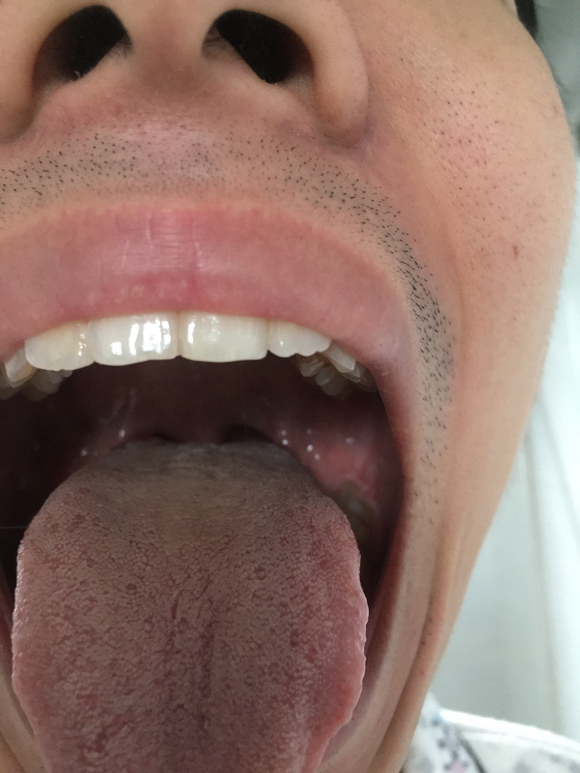huangtaishe: (11, 434, 369, 773)
liewenshe: (162, 580, 221, 733)
